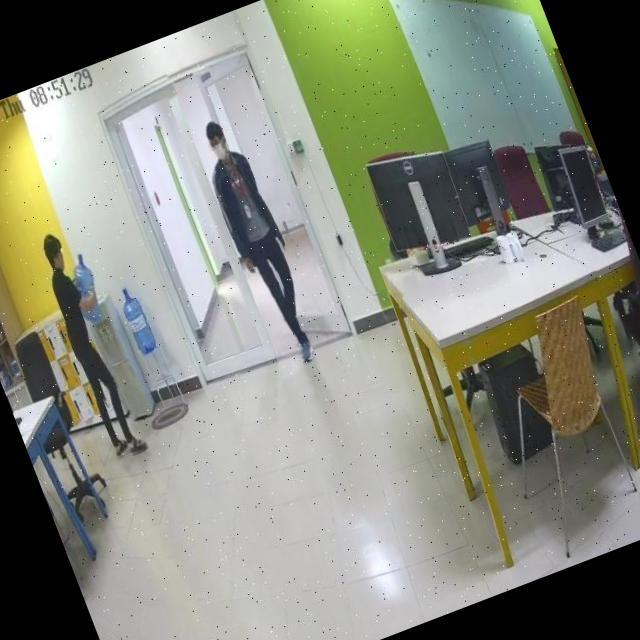person: (188, 114, 320, 369), (31, 226, 150, 464)
